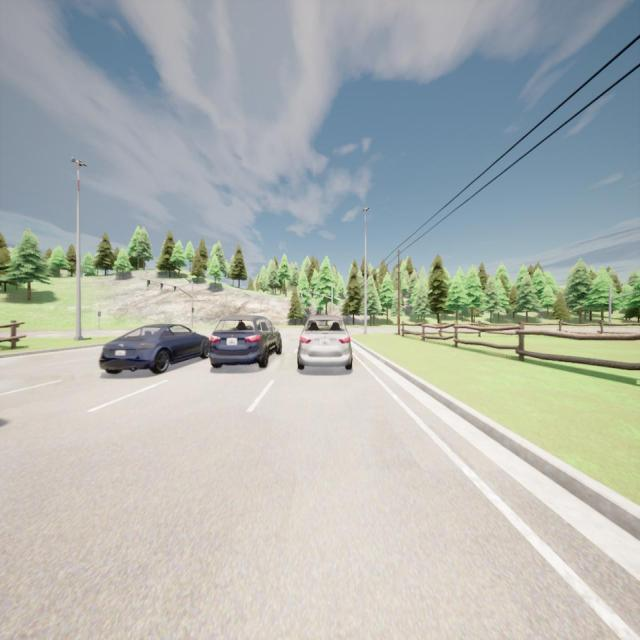Traffic_Signs: (98, 311, 101, 317)
Vehicle: (100, 324, 210, 374), (210, 314, 282, 369), (297, 315, 352, 371)
traffic_light: (147, 280, 151, 288), (173, 286, 177, 292), (160, 284, 163, 290), (192, 307, 194, 314)
